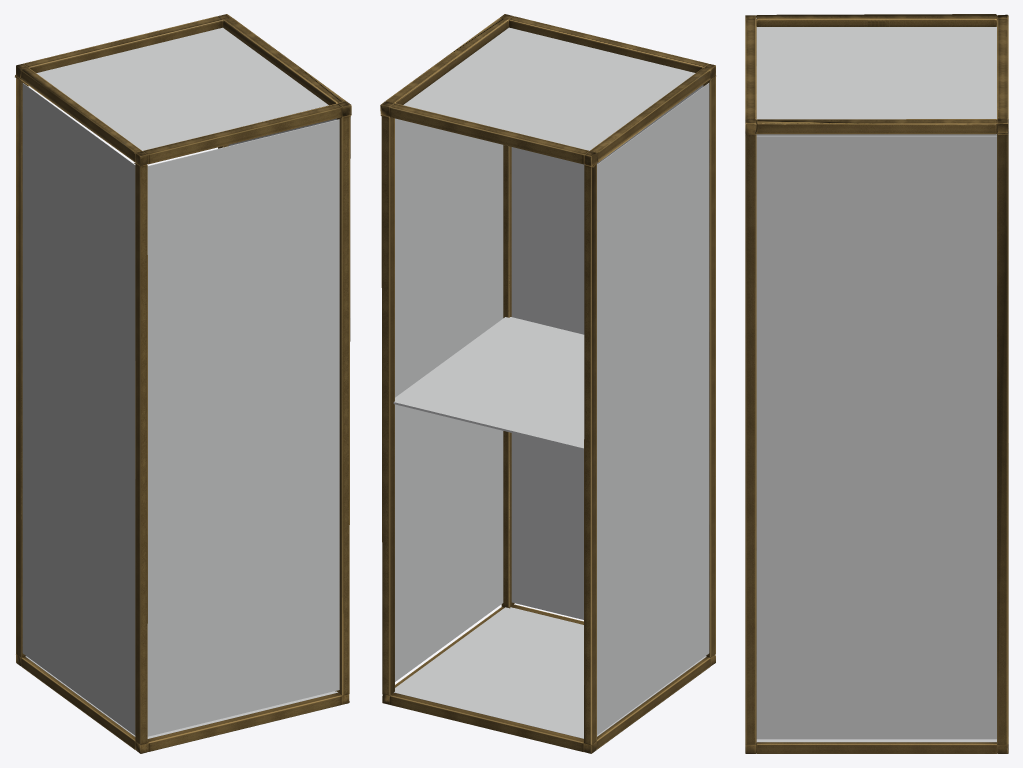
File: ck_brass_display_frame_v2-clear-glass.glb
3 views of the same model, side by side, from view 1: azimuth 30°, elevation 25°; view 2: azimuth 150°, elevation 25°; view 3: azimuth 270°, elevation 25° (orthographic). The views are drawn at different scales.
Size of the model in its own units: 0.3555 by 0.9507 by 0.3594.
2 materials, 1 textured.
